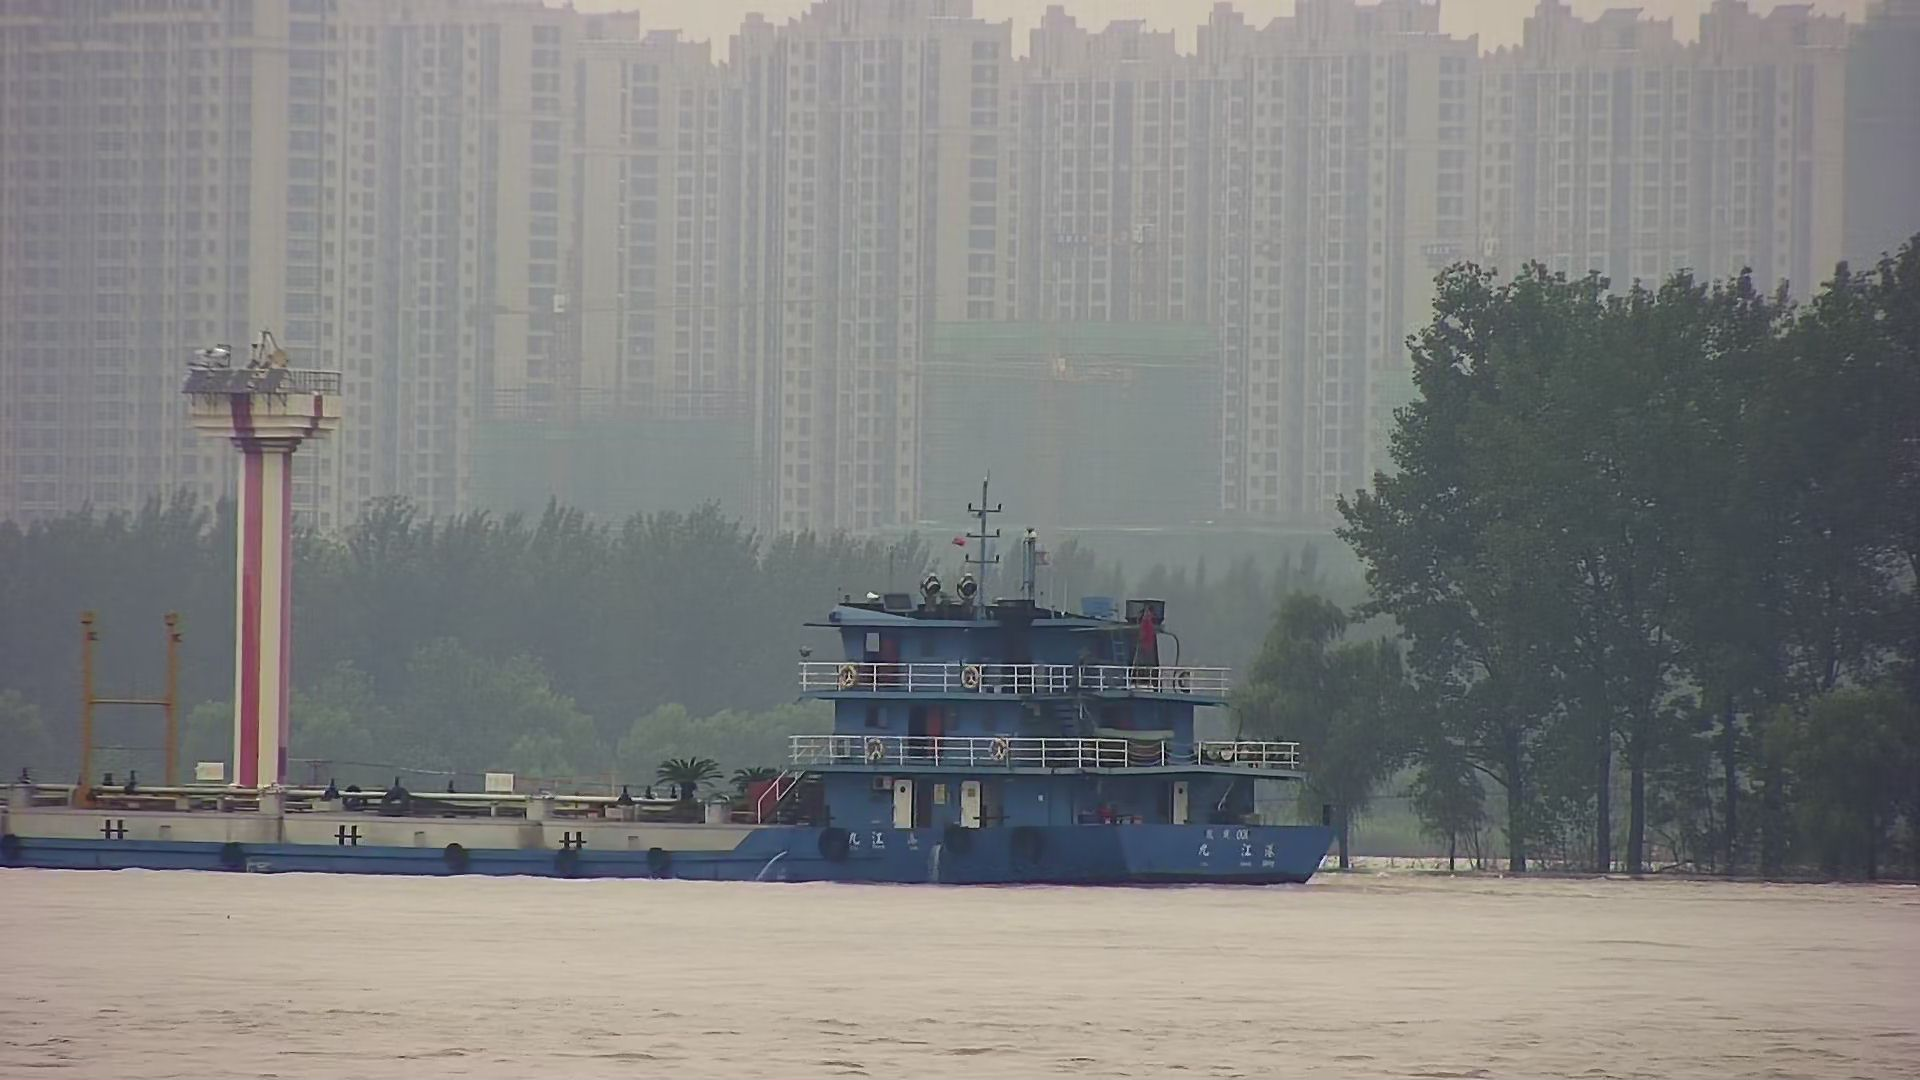platform: (186, 332, 343, 787)
ship: (1, 473, 1338, 885)
tree: (1458, 280, 1733, 881), (1335, 262, 1578, 874), (1604, 295, 1857, 884), (1764, 233, 1920, 881), (1232, 582, 1419, 876), (1766, 674, 1920, 884)
